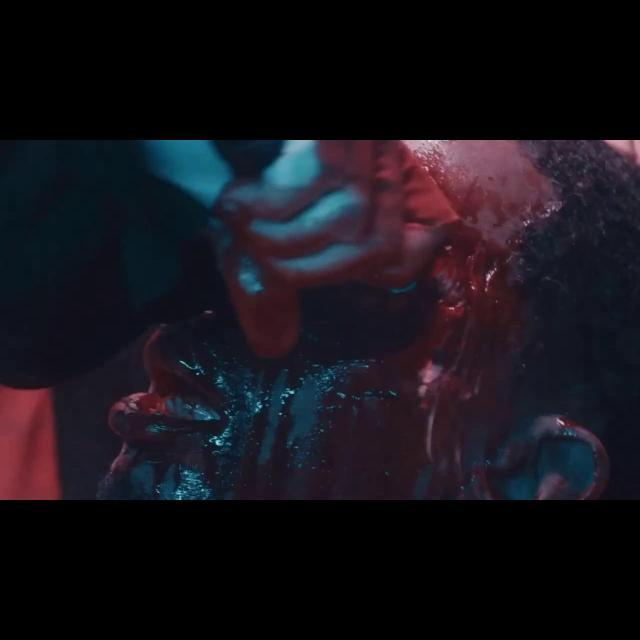blood: (99, 140, 610, 499)
